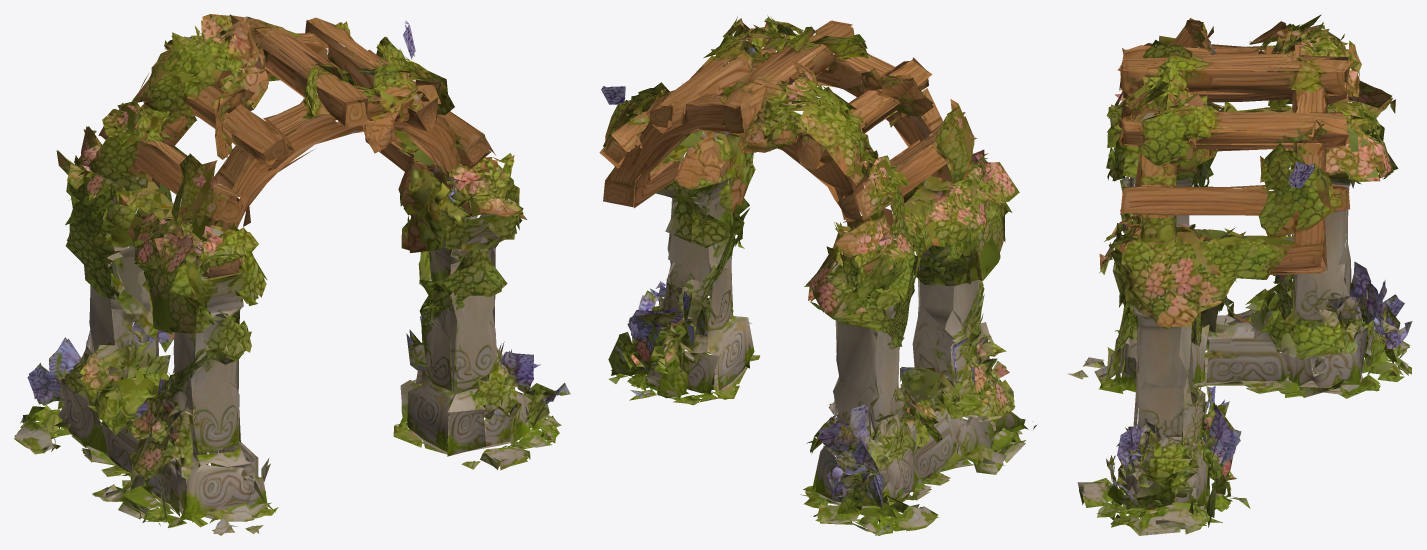
The model's file is BLD_Hatchery.fbx.
3 views of the same model, side by side, from view 1: azimuth 30°, elevation 25°; view 2: azimuth 150°, elevation 25°; view 3: azimuth 270°, elevation 25° (orthographic). The views are drawn at different scales.
Parts seen in each view (by area): view 1: BLD_Hatchery; view 2: BLD_Hatchery; view 3: BLD_Hatchery.
Boxes of the visible parts, bbox=[...] form: BLD_Hatchery: bbox=[14, 14, 570, 535]; BLD_Hatchery: bbox=[599, 15, 1036, 535]; BLD_Hatchery: bbox=[1067, 14, 1412, 535].
Size of the model in its own units: 2.2 by 2.05 by 1.59.
1 material, 1 textured.
